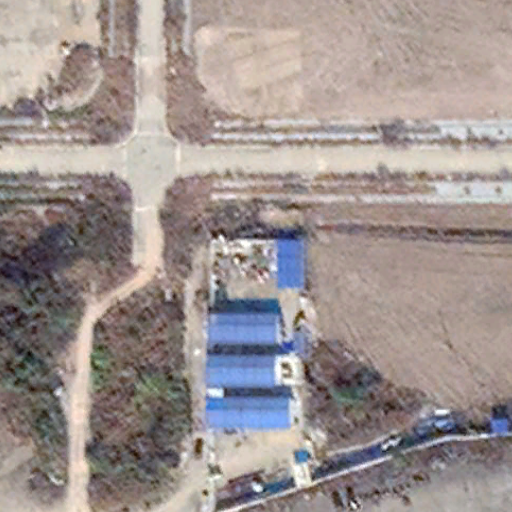msw: (215, 242, 276, 280)
